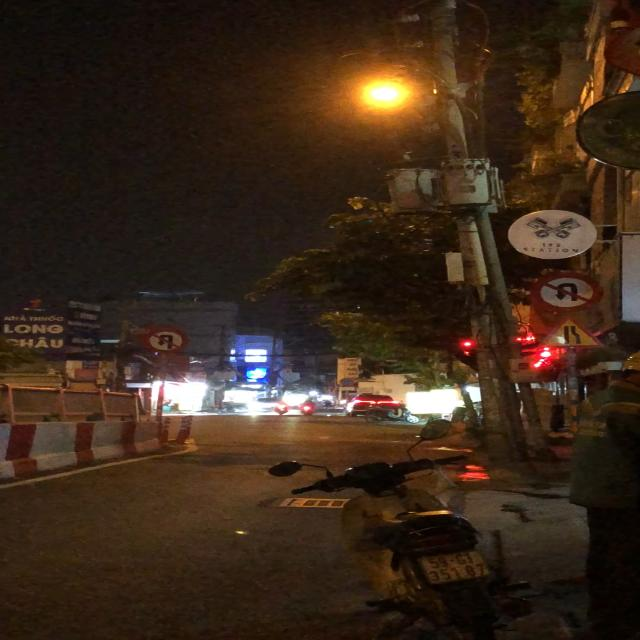Bien bao cam quay dau xe: (525, 267, 606, 314), (137, 324, 193, 356)
Bien bao duong bi thu hep: (535, 312, 611, 350)
